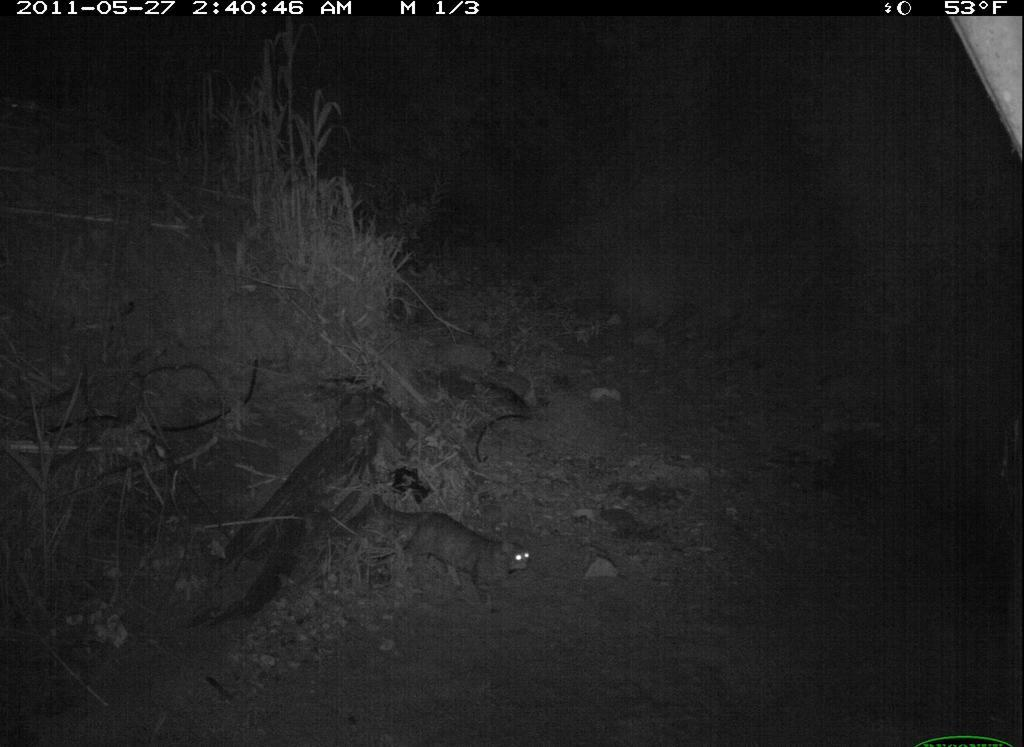cat: (363, 474, 543, 606)
